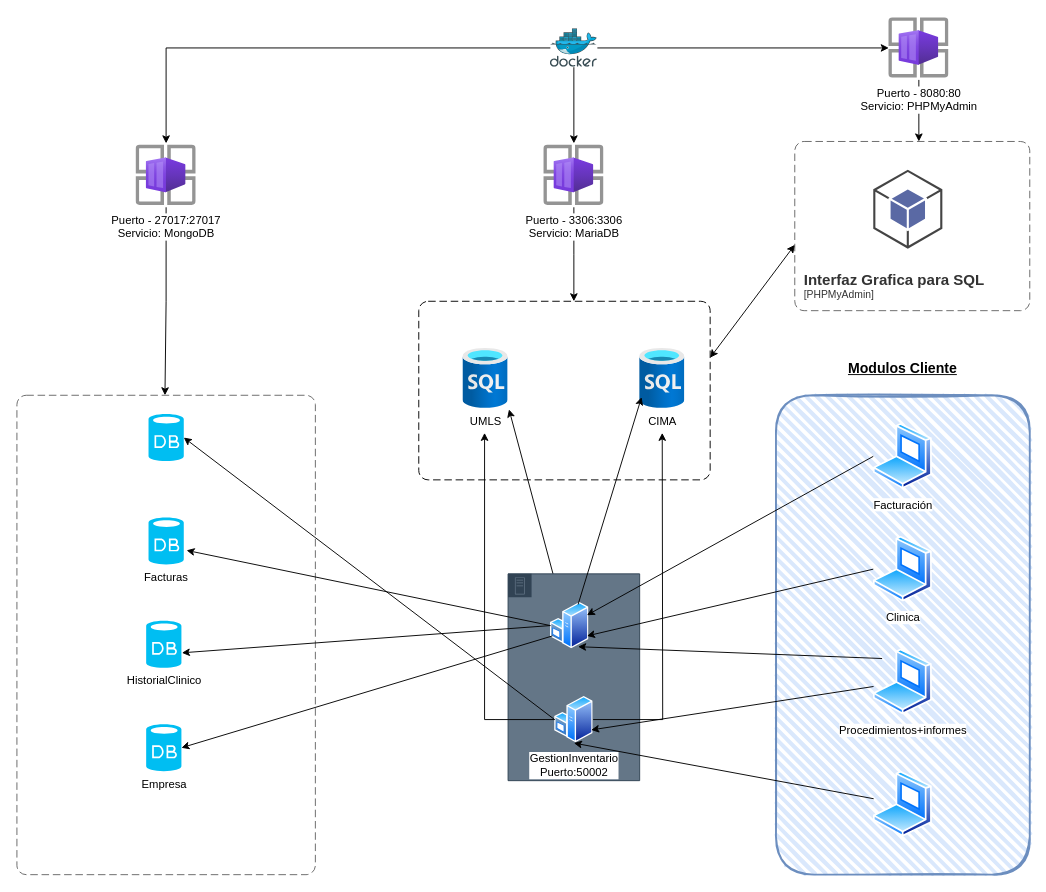
The diagram is 1046 pixels wide and 892 high, and some of its shapes have lost their labels. The shapes that lost their labels are listed below. From the top down, each one's box as (x1, y1, x2, y2) in pixels, then its label:
(872, 169, 942, 249): PHPMyAdmin
(418, 300, 710, 480): Bases de datos SQL(TÉRMINOS) [mariaDB]
(148, 414, 183, 461): Inventario
(16, 394, 315, 875): dataBases [mongoBaseDatos]
(550, 602, 588, 649): GestionClinica Puerto:50001
(507, 573, 640, 781): Server contents
(873, 771, 932, 837): Gestion Inventario
